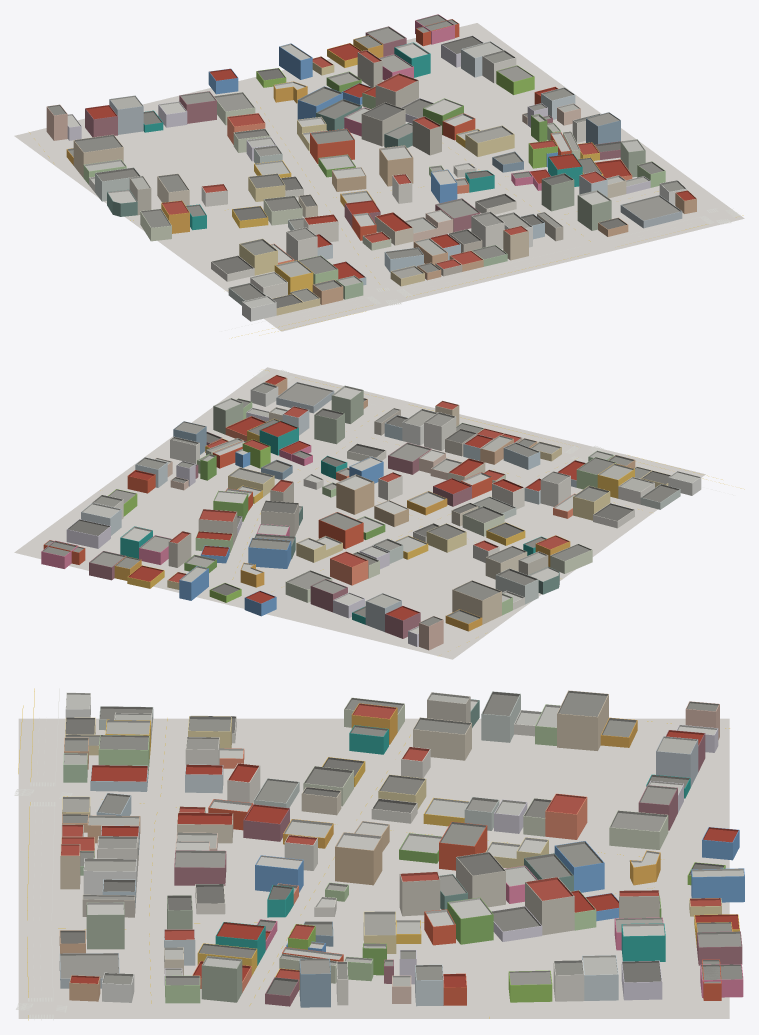
3 views of the same model, one above another, from view 1: azimuth 30°, elevation 25°; view 2: azimuth 150°, elevation 25°; view 3: azimuth 270°, elevation 25° (orthographic). The views are drawn at different scales.
Visible parts, largest first — view 1: walls, ground, roofs, markings; view 2: walls, ground, roofs, markings; view 3: ground, walls, roofs, markings.
Part boxes in pixels (x1,y1,x2,y2): walls: [46, 21, 696, 321]; ground: [14, 23, 744, 331]; roofs: [46, 14, 696, 308]; markings: [29, 101, 743, 338]; walls: [41, 378, 701, 650]; ground: [14, 367, 705, 659]; roofs: [41, 375, 700, 634]; markings: [100, 369, 744, 655]; ground: [18, 718, 729, 1018]; walls: [59, 694, 744, 1007]; roofs: [59, 690, 744, 996]; markings: [14, 688, 729, 1020].
Size of what is drawn, in the model's own units: 277 by 13.39 by 257.
